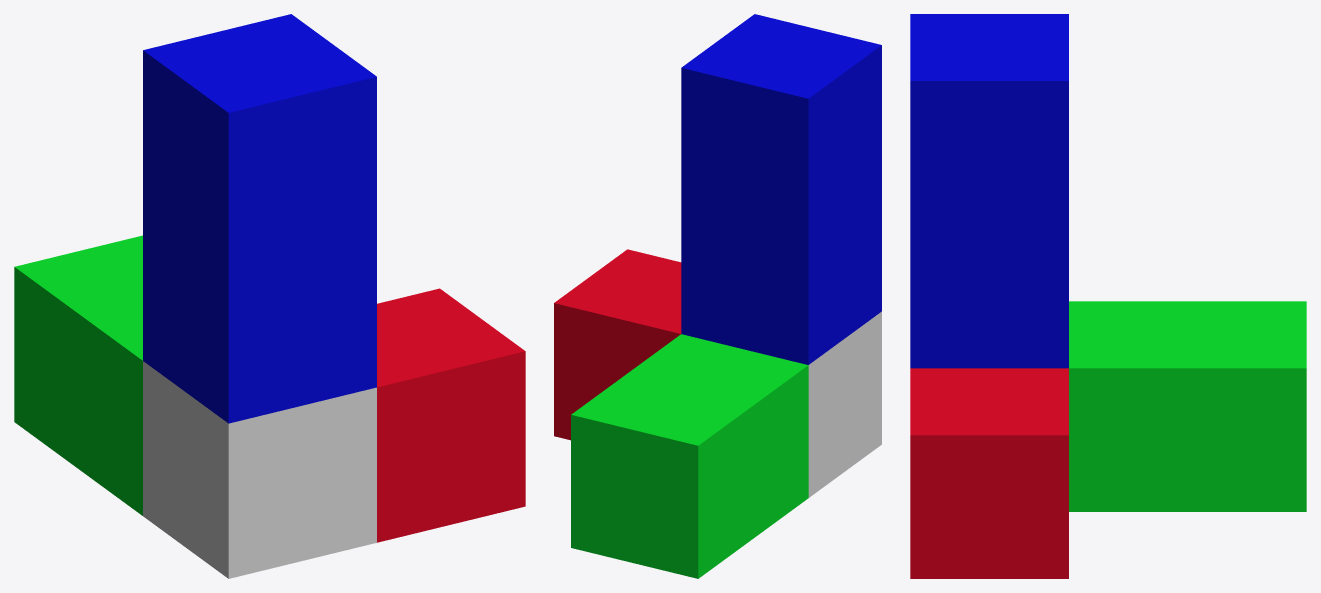
The model's file is cubeKeymodel.fbx.
3 renders of one model, left to right at view 1: azimuth 30°, elevation 25°; view 2: azimuth 150°, elevation 25°; view 3: azimuth 270°, elevation 25°, orthographic. The views are drawn at different scales.
Visible parts, largest first — view 1: CubeKey; view 2: CubeKey; view 3: CubeKey.
Part boxes in pixels (bbox=[...]): CubeKey: bbox=[14, 14, 525, 578]; CubeKey: bbox=[554, 14, 881, 578]; CubeKey: bbox=[910, 14, 1306, 578].
Size of the model in its own units: 400 by 600 by 500.
